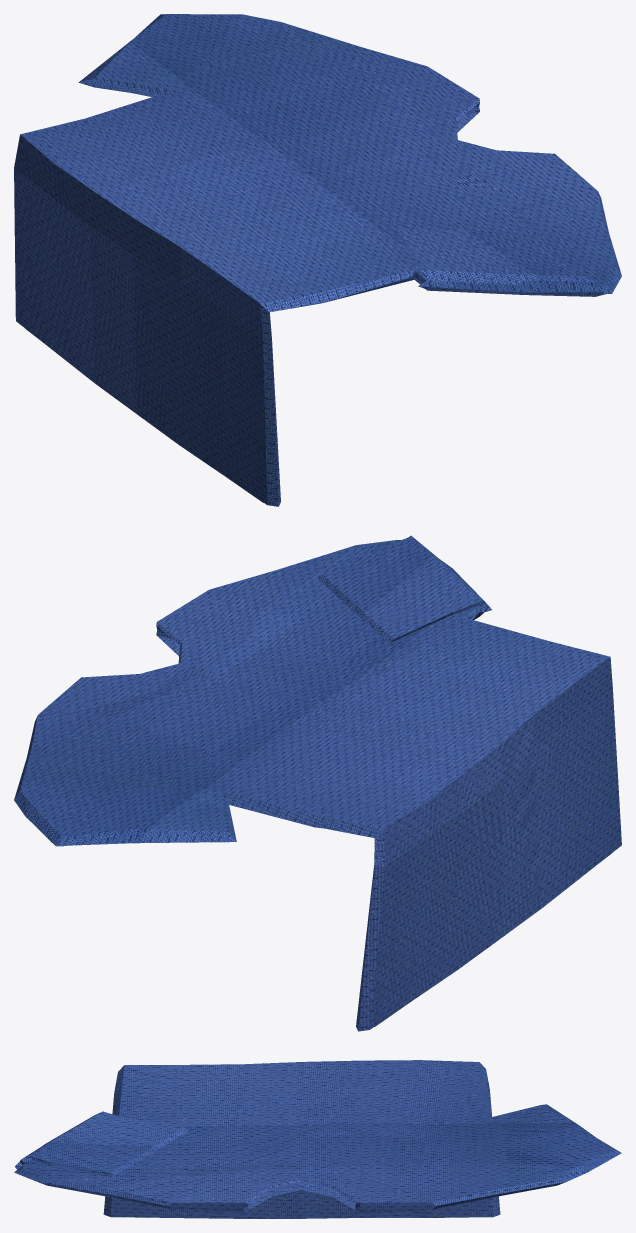
The model's file is camiseta3_2.fbx.
3 views of the same model, one above another, from view 1: azimuth 30°, elevation 25°; view 2: azimuth 150°, elevation 25°; view 3: azimuth 270°, elevation 25° (orthographic). The views are drawn at different scales.
Parts seen in each view (by area): view 1: shirt5:Mesh; view 2: shirt5:Mesh; view 3: shirt5:Mesh.
Boxes of the visible parts, x1,y1,x2,y2 form: shirt5:Mesh: (14,14,621,506); shirt5:Mesh: (14,535,621,1031); shirt5:Mesh: (14,1060,621,1218).
Bounding box in the file's own units: 1.78 × 0.9062 × 3.18.
Materials: 1 (1 with a texture image).
